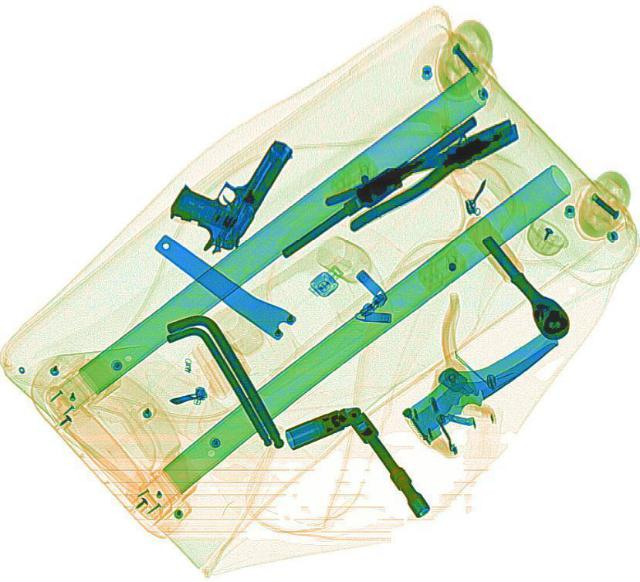Gun: (155, 117, 293, 260)
Pliers: (322, 112, 530, 233)
